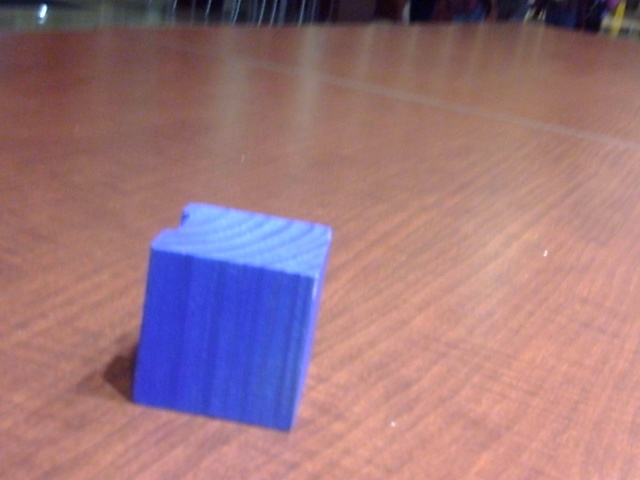BlueBlock: (132, 202, 333, 433)
